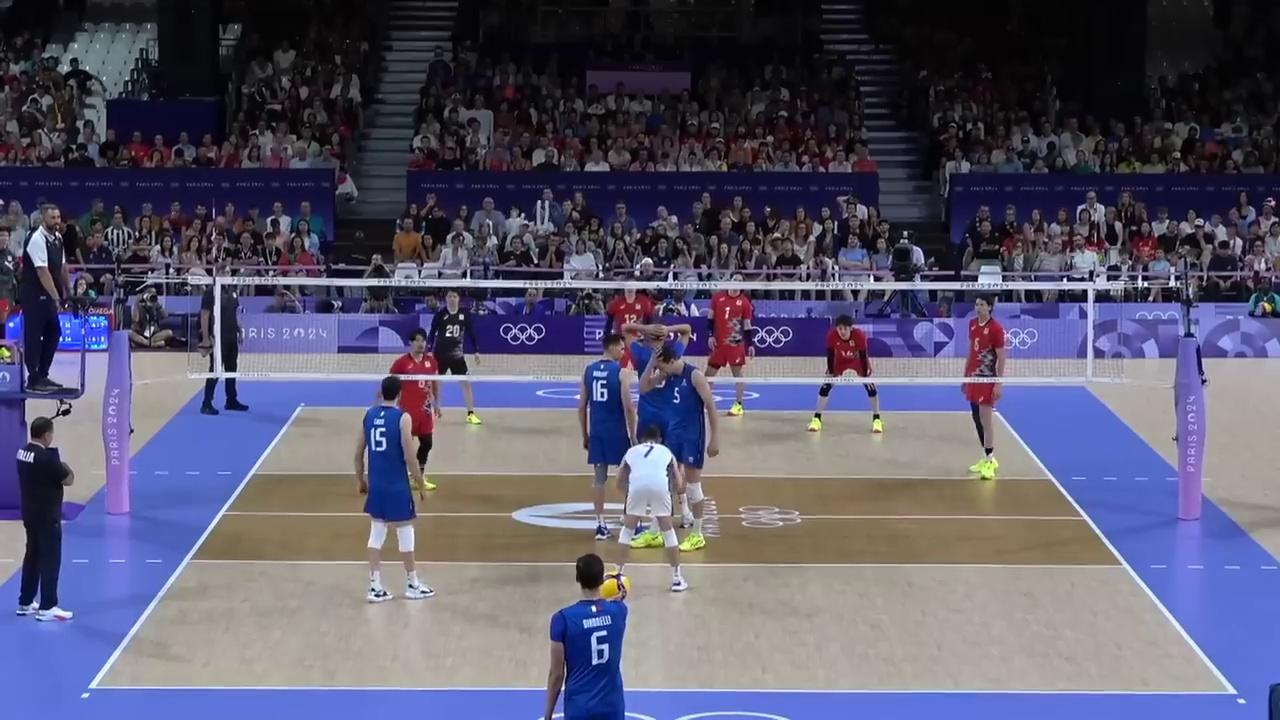ball: (598, 573, 629, 603)
